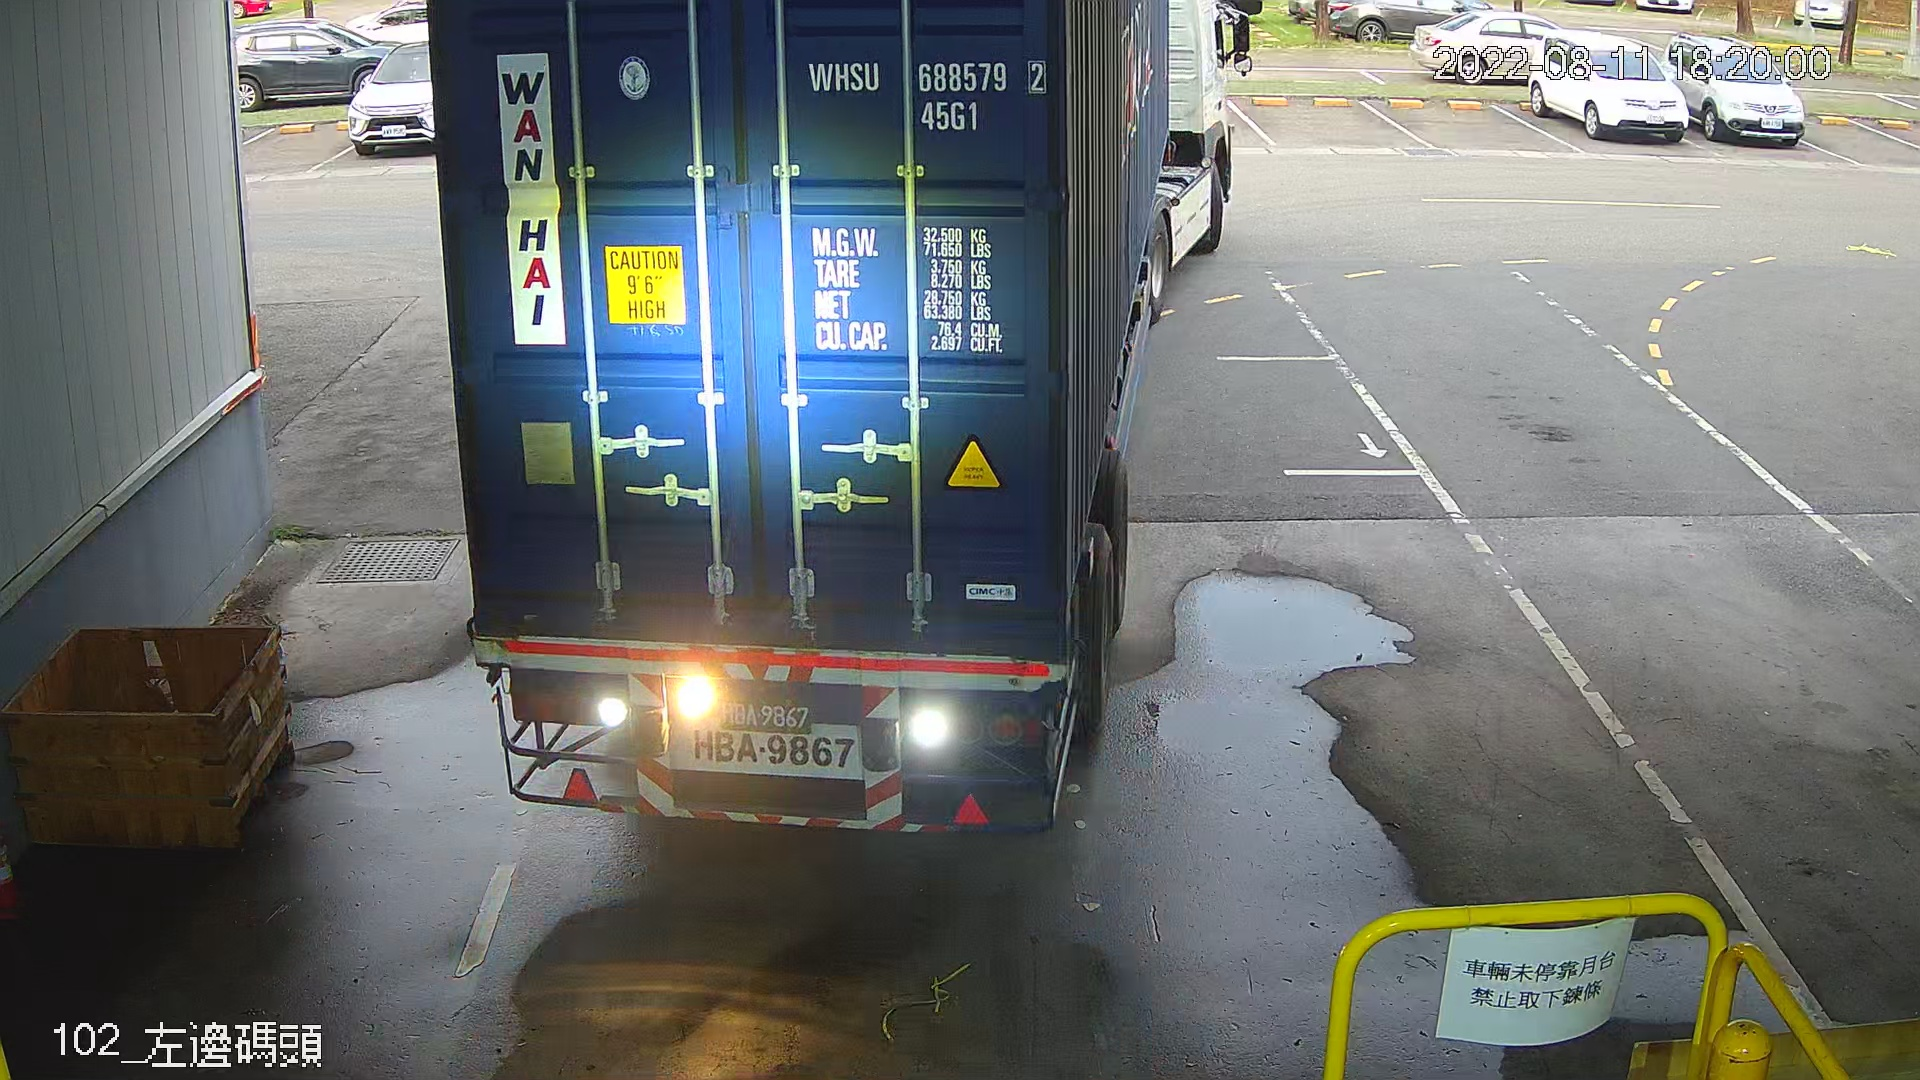container: (793, 44, 1056, 142)
